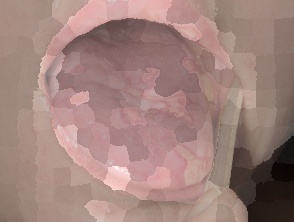SJS-TEN: (18, 0, 283, 222)
